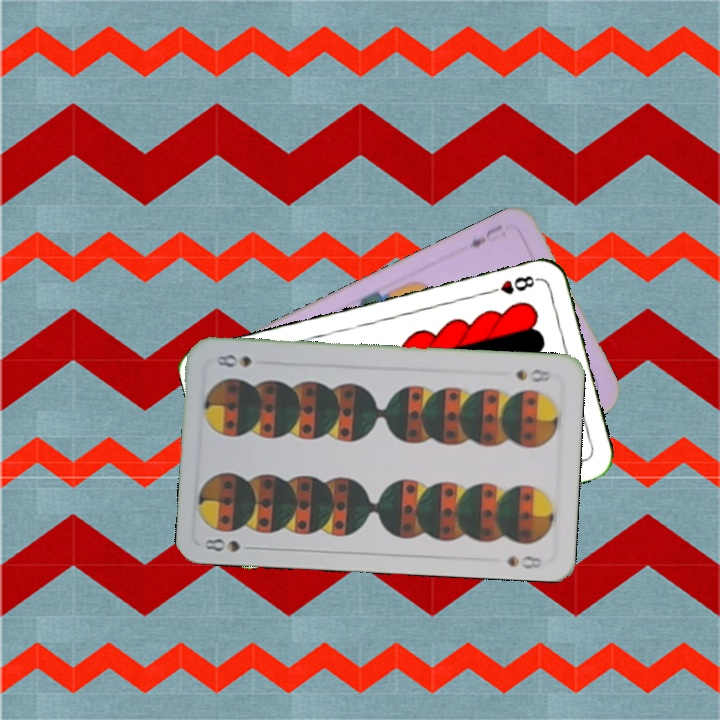EU: (464, 220, 505, 251)
H8: (483, 271, 541, 298)
S8: (200, 534, 259, 555), (511, 365, 555, 385)
